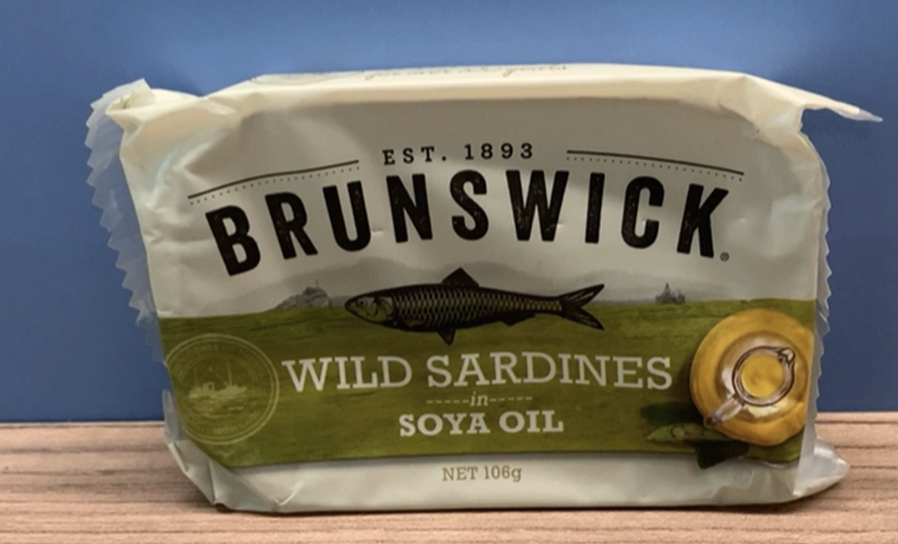sardines_100g-199g: (174, 128, 798, 486)
